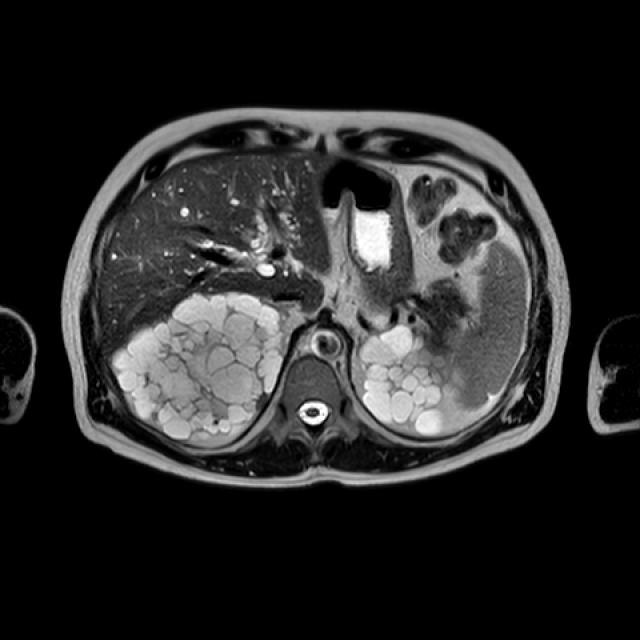sag: (109, 291, 292, 445)
sol: (359, 325, 473, 437)
